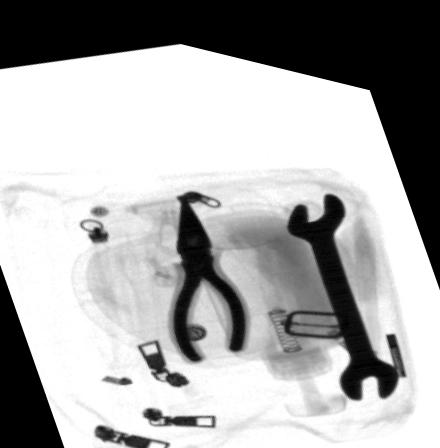Pliers: (171, 186, 248, 355)
Wrench: (284, 175, 400, 384)
